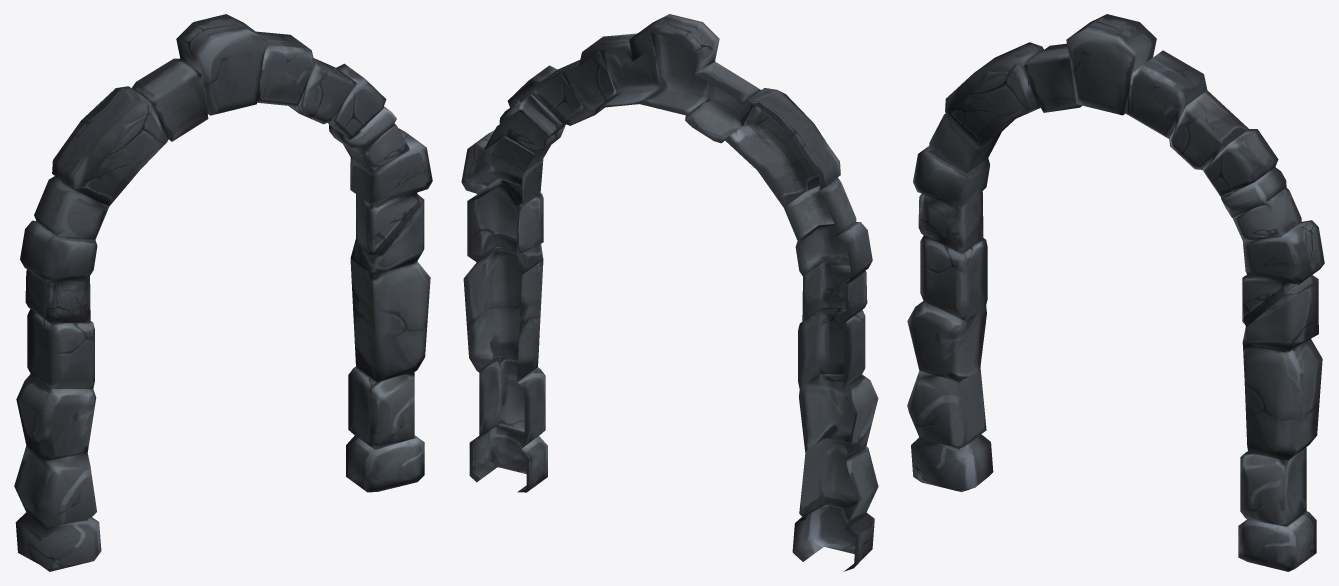
The model's file is Window_Arch 1.fbx.
3 renders of one model, left to right at view 1: azimuth 30°, elevation 25°; view 2: azimuth 150°, elevation 25°; view 3: azimuth 330°, elevation 25°, orthographic.
Parts seen in each view (by area): view 1: pCube1; view 2: pCube1; view 3: pCube1.
Boxes of the visible parts, <box> form: pCube1: <box>14,14,432,571</box>; pCube1: <box>461,14,878,571</box>; pCube1: <box>907,14,1324,571</box>.
Size of the model in its own units: 4.83 by 5.73 by 0.5928.
